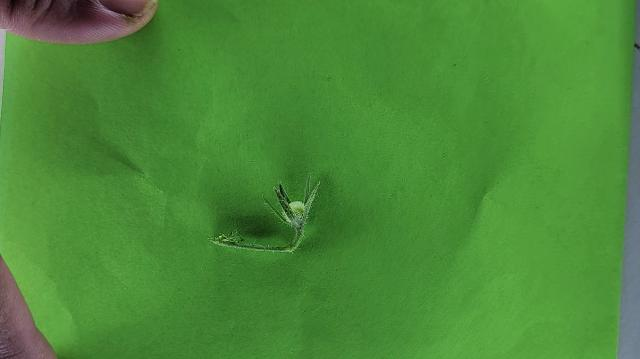Fruit Bud: (266, 173, 319, 231)
